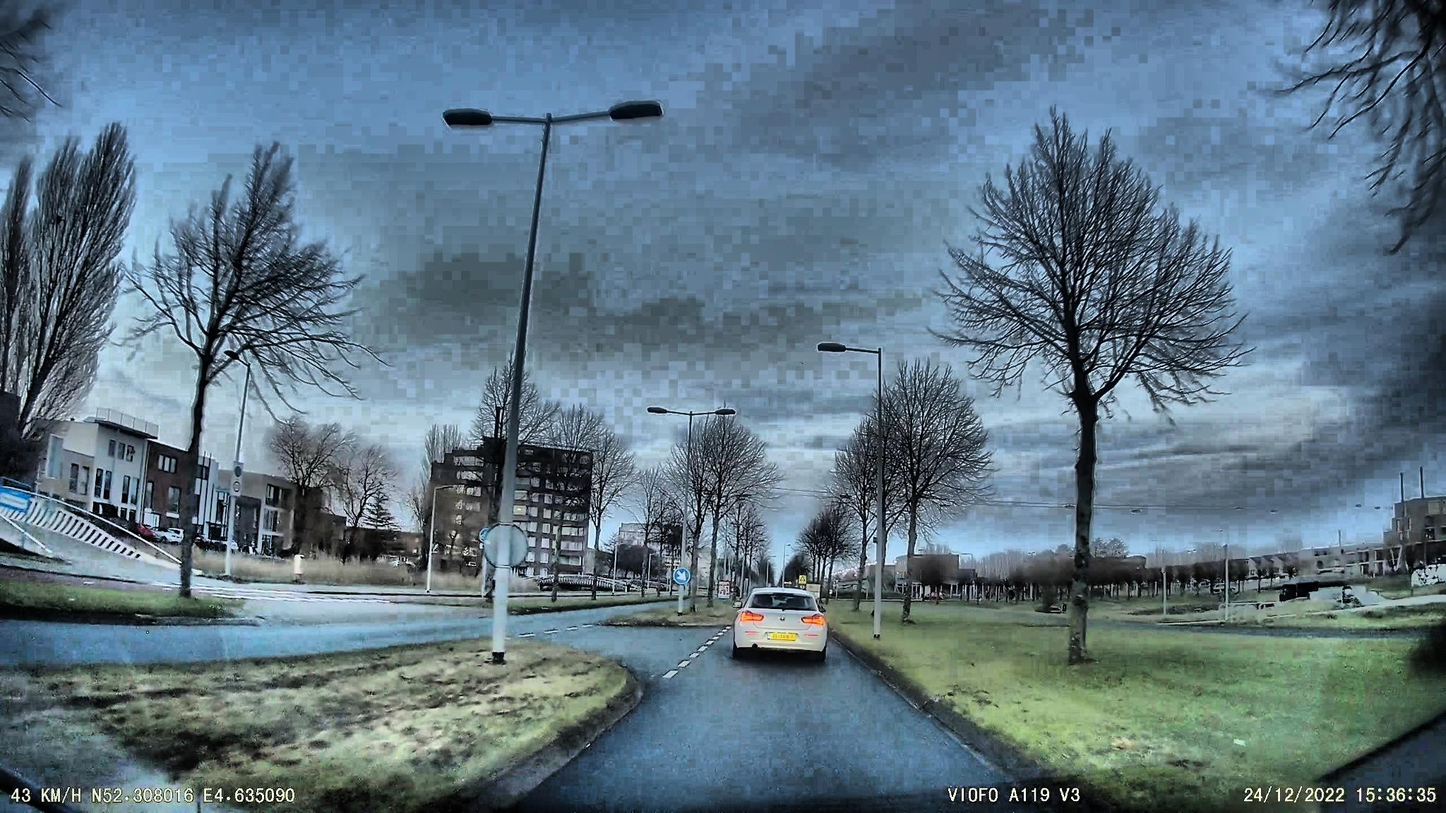Roads: (507, 621, 1098, 813)
